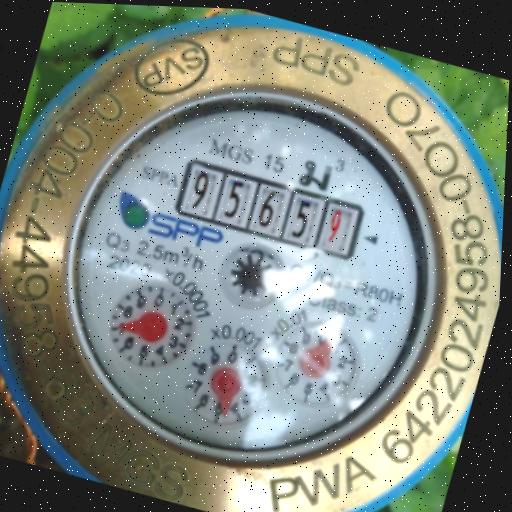5: (218, 179, 249, 225), (287, 200, 317, 244)
6: (252, 190, 283, 236)
9: (185, 171, 216, 216), (322, 208, 353, 252)
border_water_meter_number: (171, 158, 369, 263)
